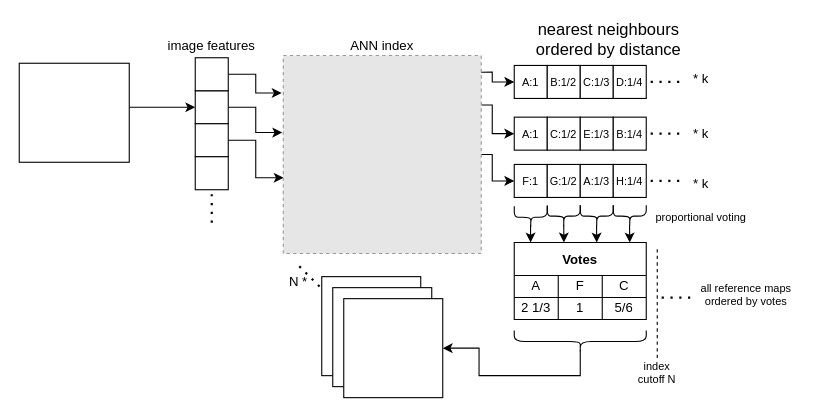
This 815x417 diagram has some shape labels left out. Grey dashed boxes stand in for pictures. The shapes that lost their labels are listed below. From the top down, each one's centre as x and y in pixels, then its label:
At (x=73, y=112): "query map".
At (x=393, y=348): "most similar reference maps".
